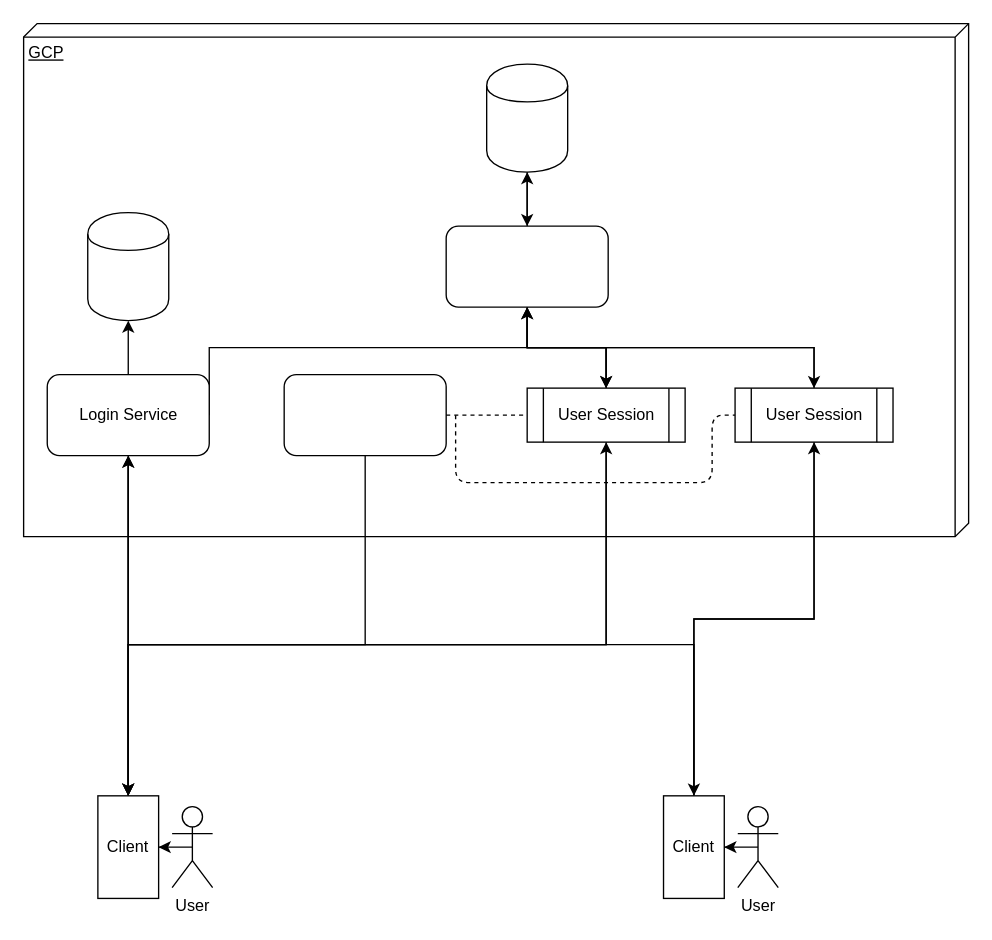
This 992x940 diagram has some shape labels left out. The centre of each missing label's shape, as x and y in pixels:
Accounts DB: the point at 127,266
Message DB: the point at 526,117
Message DB Cache: the point at 526,266
Presence Service: the point at 364,414
